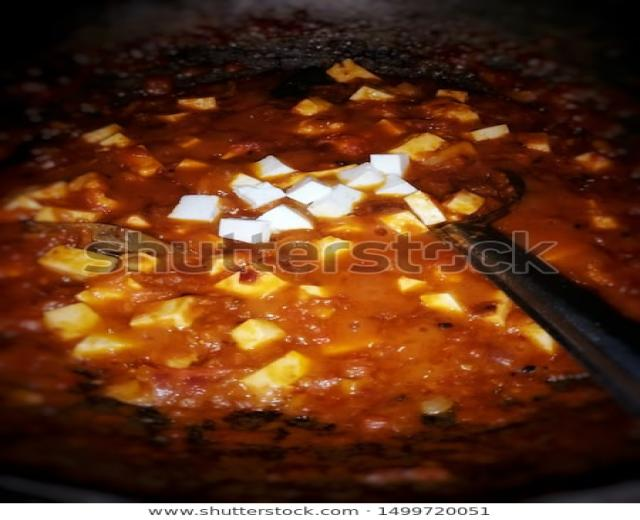kadai paneer: (0, 20, 639, 502)
